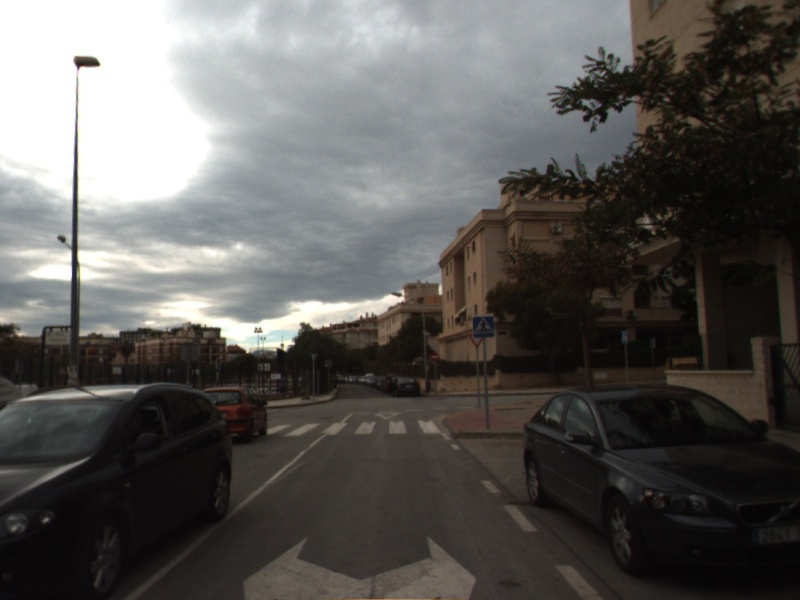LEFT_RIGHT: (239, 530, 480, 600)
